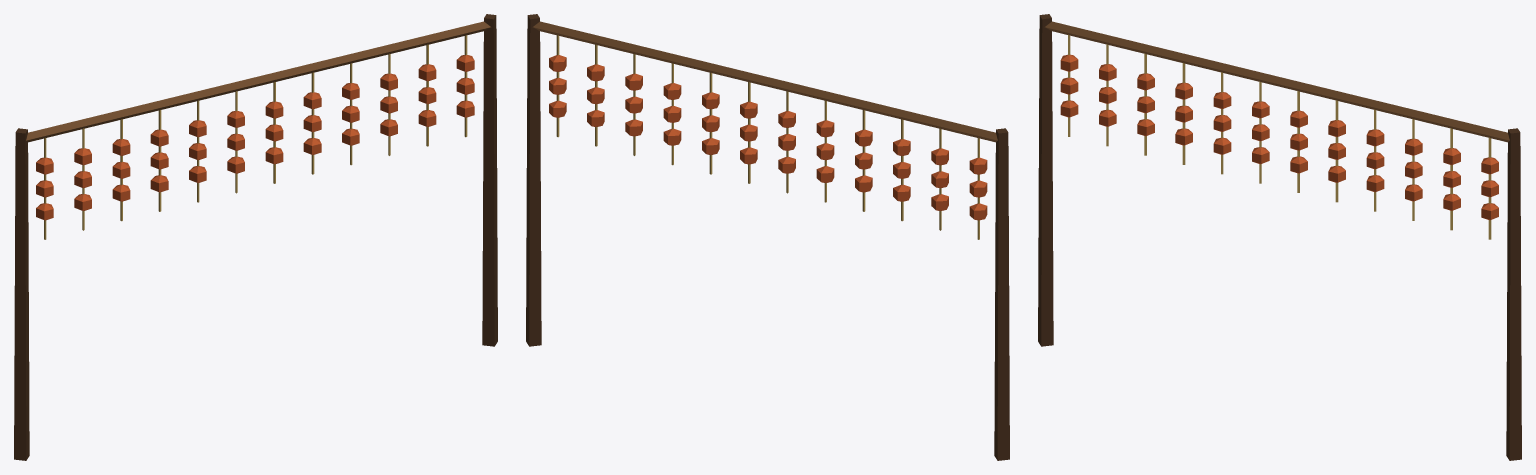
The model's file is a2v_persimmon_line.glb.
The picture shows the model from 3 angles, left to right: view 1: azimuth 30°, elevation 25°; view 2: azimuth 150°, elevation 25°; view 3: azimuth 330°, elevation 25°; orthographic projection.
Visible parts, largest first — view 1: a2v_persimmon_line; view 2: a2v_persimmon_line; view 3: a2v_persimmon_line.
Part boxes in pixels (x1=…): a2v_persimmon_line: x1=14, y1=14, x2=497, y2=460; a2v_persimmon_line: x1=526, y1=14, x2=1009, y2=460; a2v_persimmon_line: x1=1038, y1=14, x2=1521, y2=460.
Size of the model in its own units: 3.1 by 2 by 0.102.
